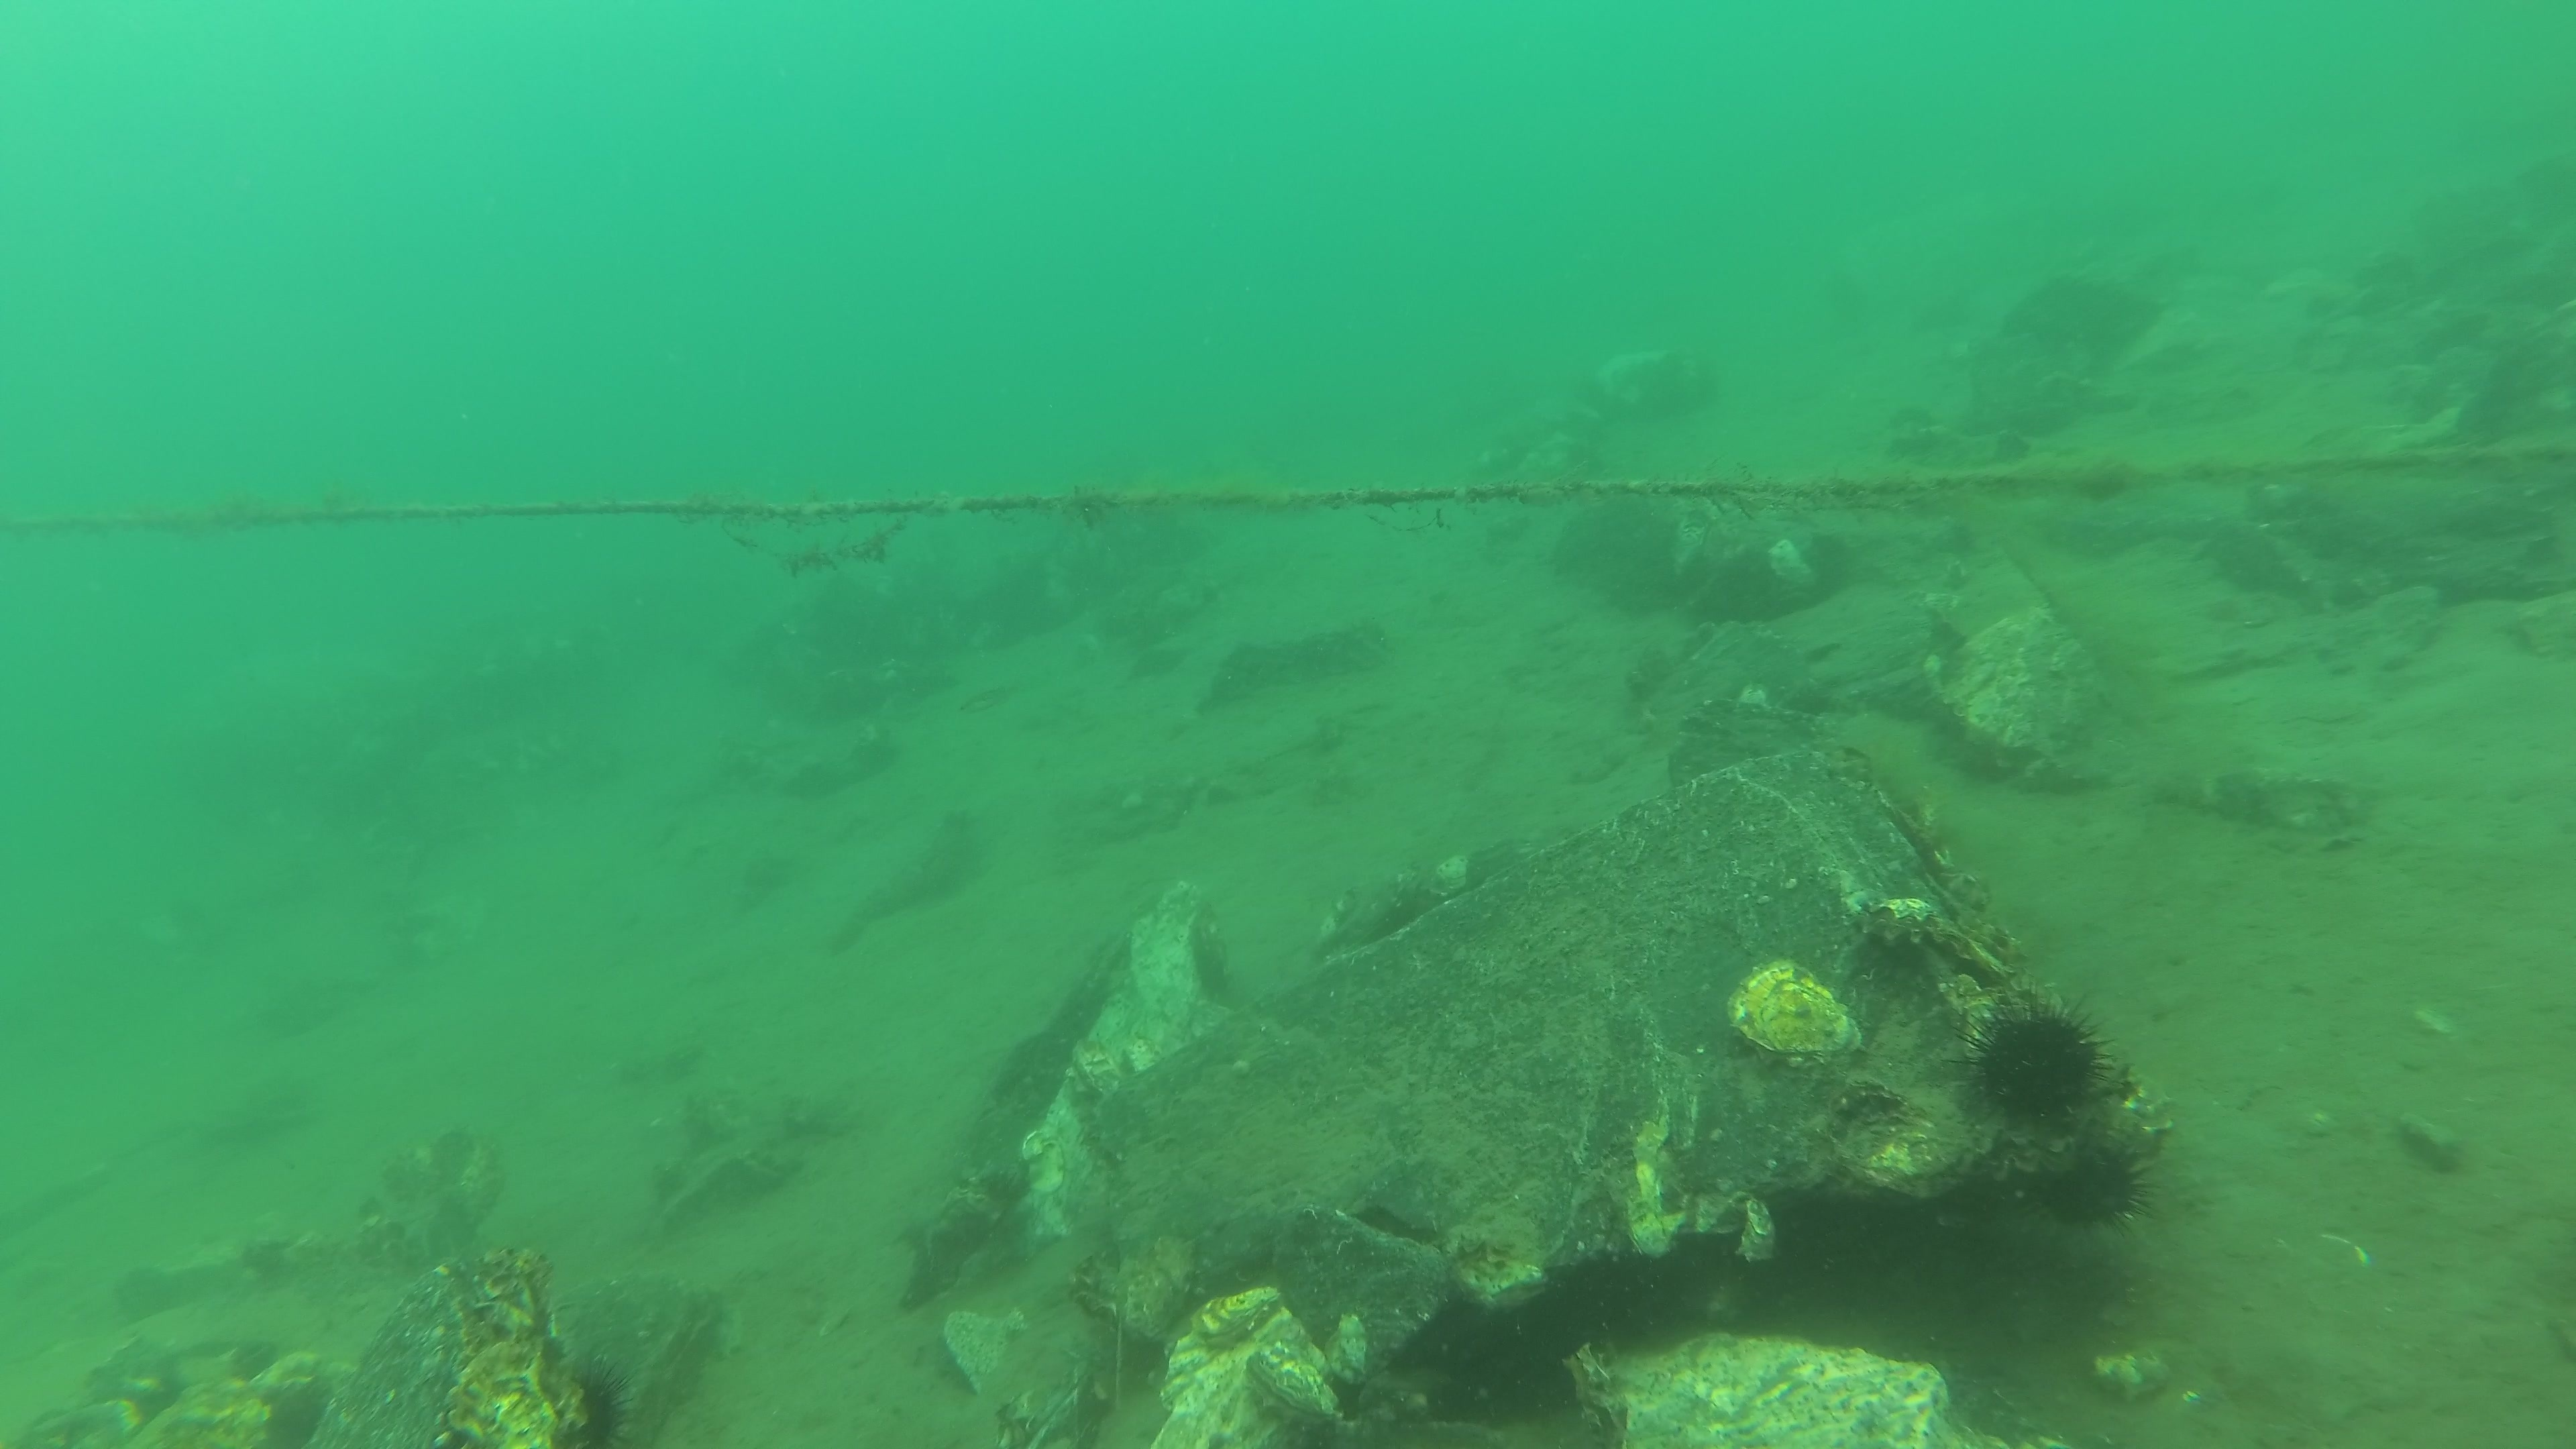echinus: (1960, 989, 2118, 1120), (2035, 1129, 2157, 1231), (557, 1352, 640, 1449)
